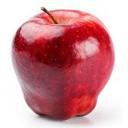apple: (10, 8, 115, 118)
